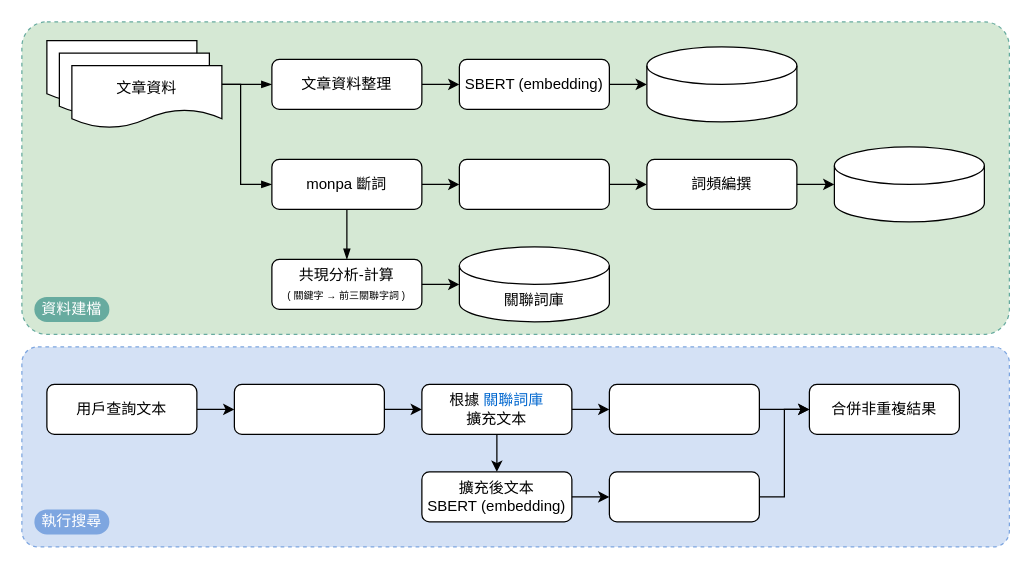
This 1031x569 diagram has some shape labels left out. Here are the shapes that lost their labels. From the top down, the centre of each, then its label:
At point 721,84: "文章向量 資料庫".
At point 533,183: "TF-IDF-計算 ( 關鍵字重要度 )".
At point 908,184: "文章詞頻 資料庫".
At point 308,408: "關鍵字萃取".
At point 683,408: "根據 文章詞頻 資料庫 搜尋詞頻高的文章".
At point 683,496: "根據 文章向量 資料庫 向量搜尋".
